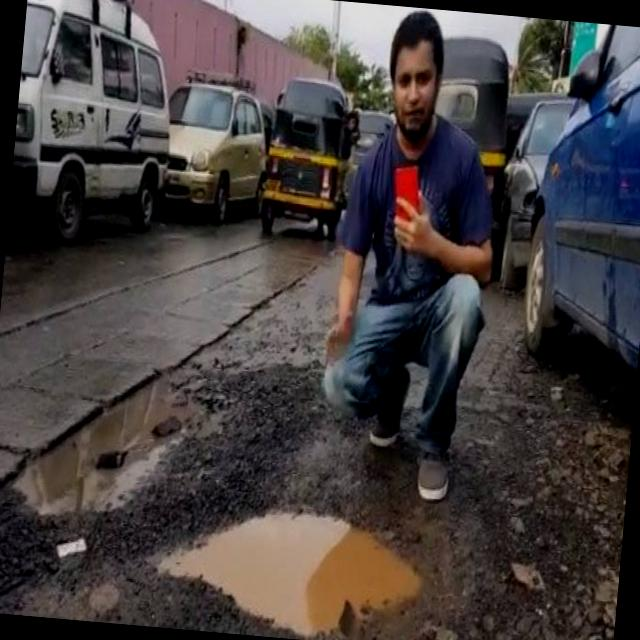bad-road: (141, 493, 429, 640), (6, 356, 212, 530)
